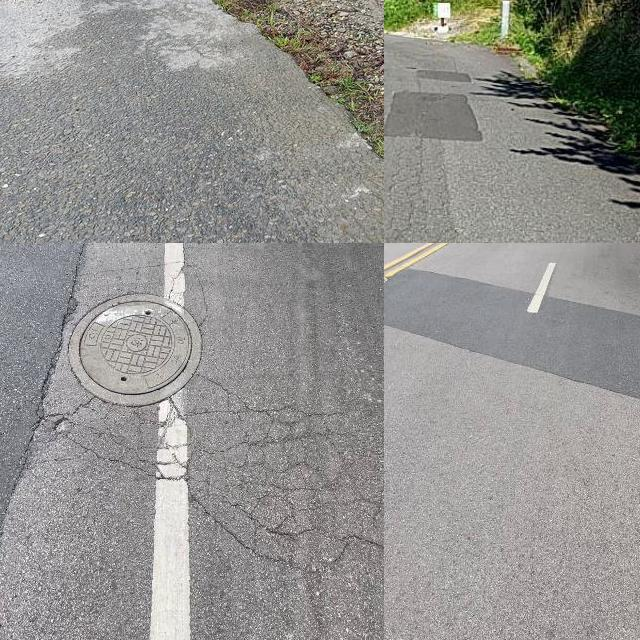Lubang: (69, 295, 204, 403)
Pinggir: (188, 0, 384, 211)
Sambungan: (384, 267, 640, 399), (0, 243, 88, 530), (384, 92, 481, 140), (407, 67, 472, 82)
